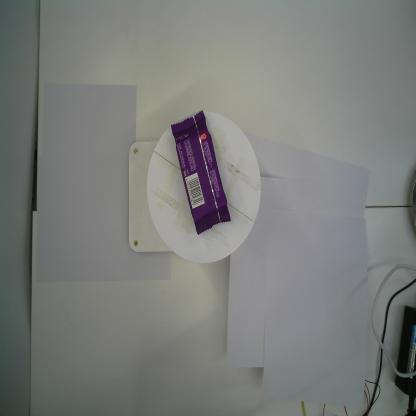Dessert: (170, 110, 232, 236)
